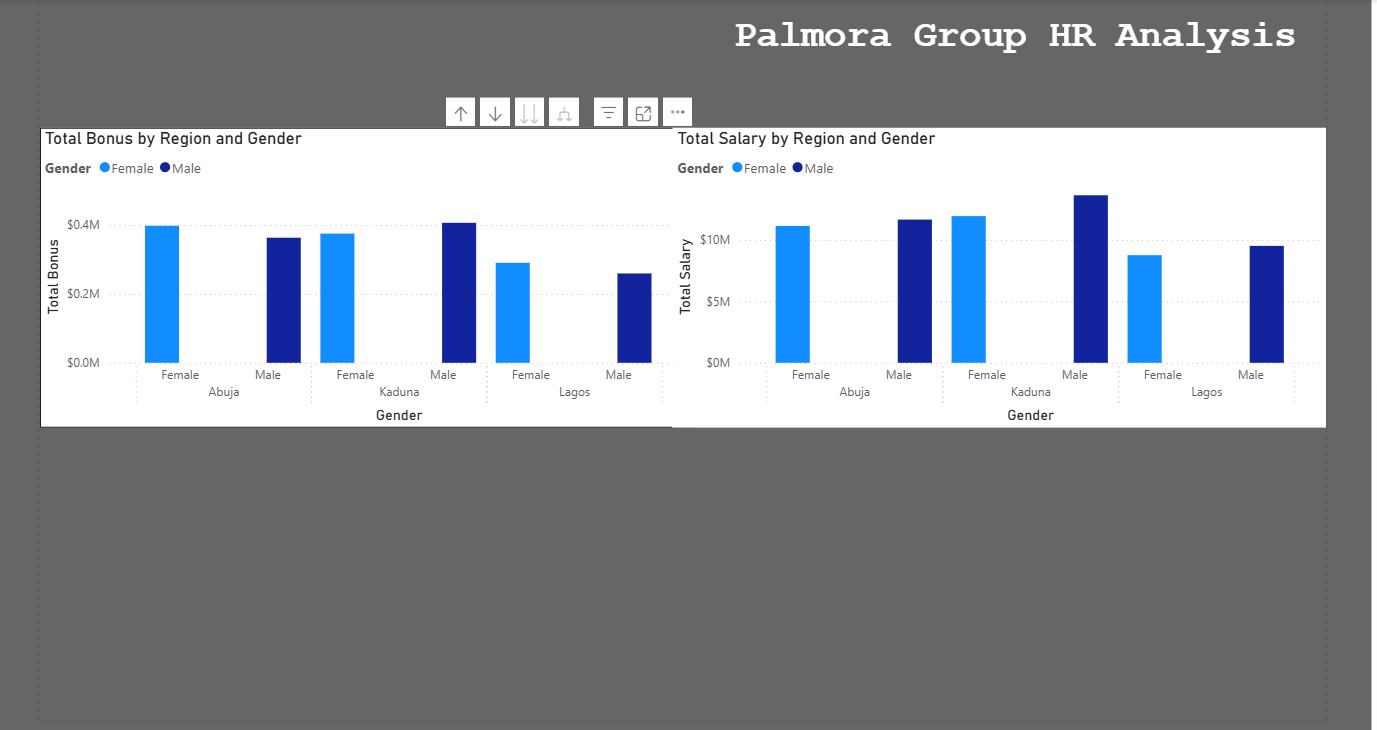

What the dashboard file says about the page in this screenshot:
{"tool":"powerbi","page":{"name":"Page 4","canvas":[1280,720],"ordinal":3},"visuals":[{"type":"clusteredColumnChart","title":"Total Bonus by Region  and Gender","fields":{"Category":["Regions.Region","Gender.Gender"],"Y":["Palmoria Group emp-data.Total Bonus"],"Series":["Gender.Gender"]},"box":[0,128.4,650.7,298.7],"z":0},{"type":"clusteredColumnChart","title":"Total Salary by Region and Gender","fields":{"Category":["Regions.Region","Gender.Gender"],"Y":["Palmoria Group emp-data.Total Salary"],"Series":["Gender.Gender"]},"box":[629,128.4,650.7,298.7],"z":1000},{"type":"textbox","box":[685.3,11.5,578.5,57.7],"z":2000}]}

Visuals, with their boxes on the page's 1280x720 design canvas (x1, y1, x2, y2). These are canvas units, not pixel positions in the 1377x730 screenshot, which may show the page scaled, cropped or inside an application window:
"Total Bonus by Region  and Gender" clusteredColumnChart: bbox(0, 128, 651, 427)
"Total Salary by Region and Gender" clusteredColumnChart: bbox(629, 128, 1280, 427)
textbox: bbox(685, 12, 1264, 69)
